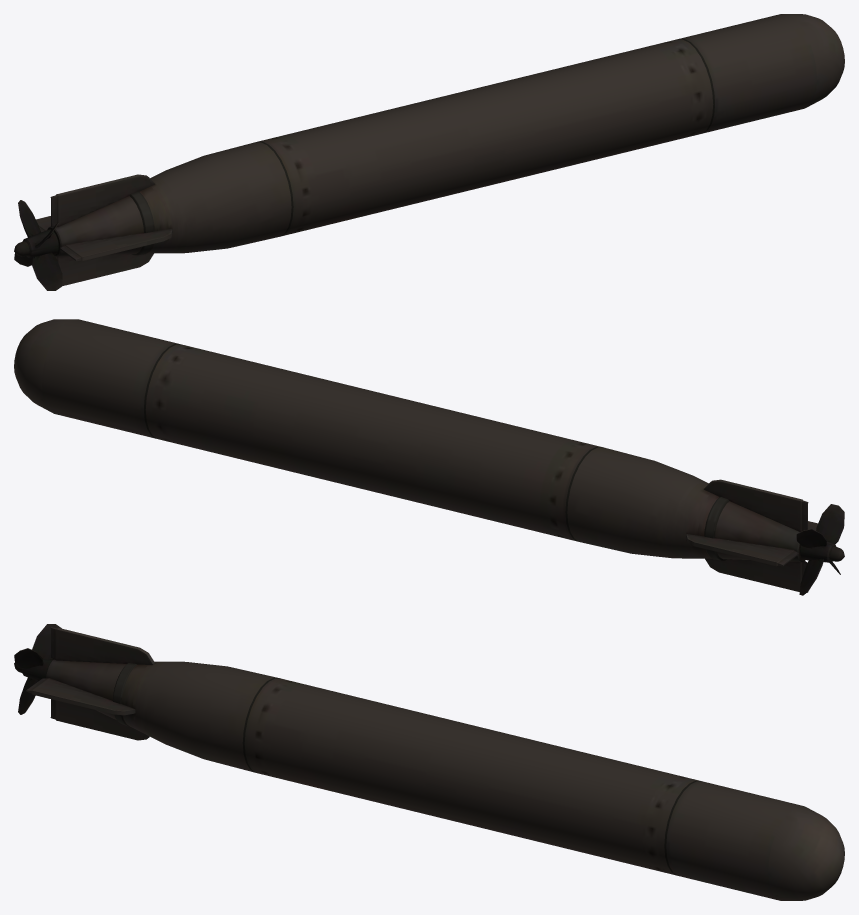
The picture shows the model from 3 angles, top to bottom: view 1: azimuth 30°, elevation 25°; view 2: azimuth 150°, elevation 25°; view 3: azimuth 330°, elevation 25°; orthographic projection.
Visible parts, largest first — view 1: body0_model0_lod0_mesh0; view 2: body0_model0_lod0_mesh0; view 3: body0_model0_lod0_mesh0.
Boxes of the visible parts, bbox=[...] form: body0_model0_lod0_mesh0: bbox=[14, 14, 844, 290]; body0_model0_lod0_mesh0: bbox=[14, 319, 844, 595]; body0_model0_lod0_mesh0: bbox=[14, 624, 844, 900].
Size of the model in its own units: 378 by 39.87 by 39.87.
Materials: 1 (1 with a texture image).
